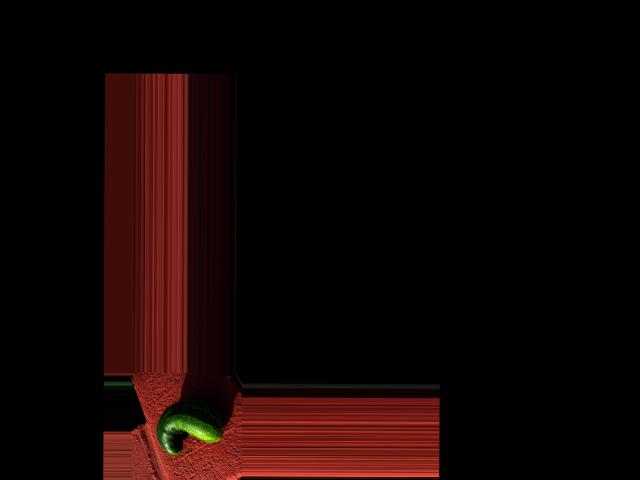cucumber: (156, 399, 222, 456)
